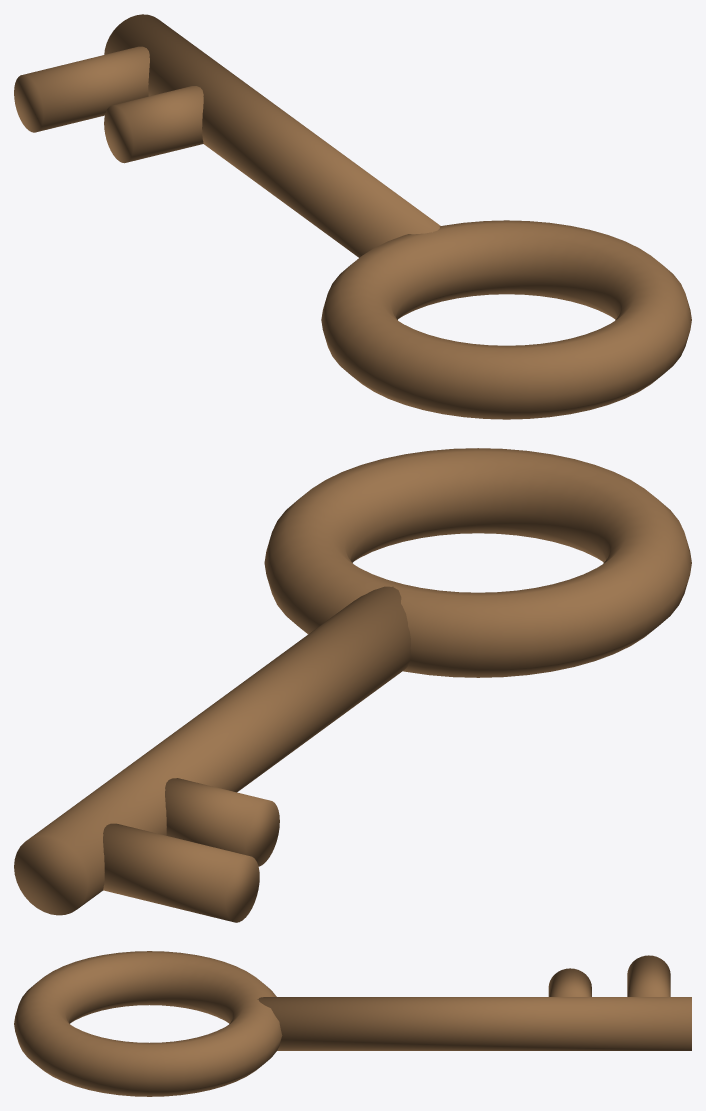
The model's file is key.fbx.
3 renders of one model, top to bottom at view 1: azimuth 30°, elevation 25°; view 2: azimuth 150°, elevation 25°; view 3: azimuth 270°, elevation 25°, orthographic. The views are drawn at different scales.
Visible parts, largest first — view 1: Key; view 2: Key; view 3: Key.
Boxes of the visible parts, x1,y1,x2,y2 form: Key: (14, 14, 691, 419); Key: (14, 448, 691, 922); Key: (14, 951, 691, 1096).
Size of the model in its own units: 0.5 by 1.25 by 0.1.
